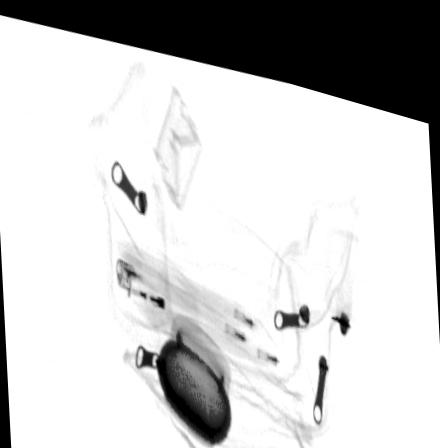Lighter: (115, 250, 199, 325)
